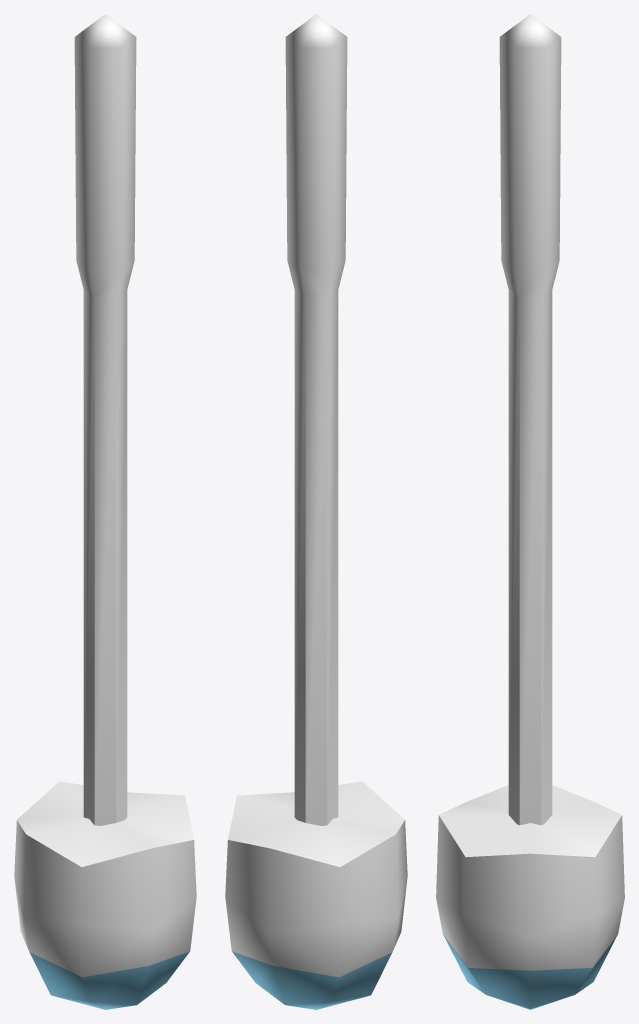
The model's file is SM_Prop_ToiletBrush_01.obj.
3 views of the same model, side by side, from view 1: azimuth 30°, elevation 25°; view 2: azimuth 150°, elevation 25°; view 3: azimuth 270°, elevation 25° (orthographic).
Visible parts, largest first — view 1: SM_Prop_ToiletBrush_01_Mat_SwatchOverlay_PolygonTown_01_Inst; view 2: SM_Prop_ToiletBrush_01_Mat_SwatchOverlay_PolygonTown_01_Inst; view 3: SM_Prop_ToiletBrush_01_Mat_SwatchOverlay_PolygonTown_01_Inst.
Part boxes in pixels (x1,y1,x2,y2): SM_Prop_ToiletBrush_01_Mat_SwatchOverlay_PolygonTown_01_Inst: (14, 14, 196, 1009); SM_Prop_ToiletBrush_01_Mat_SwatchOverlay_PolygonTown_01_Inst: (225, 14, 407, 1009); SM_Prop_ToiletBrush_01_Mat_SwatchOverlay_PolygonTown_01_Inst: (436, 14, 624, 1009).
Size of the model in its own units: 0.1082 by 0.6292 by 0.1082.
1 material, 1 textured.
